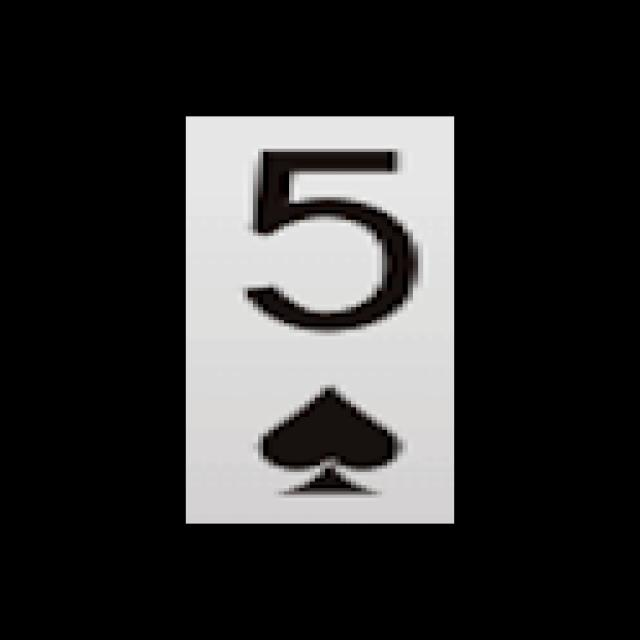5S: (210, 132, 437, 509)
